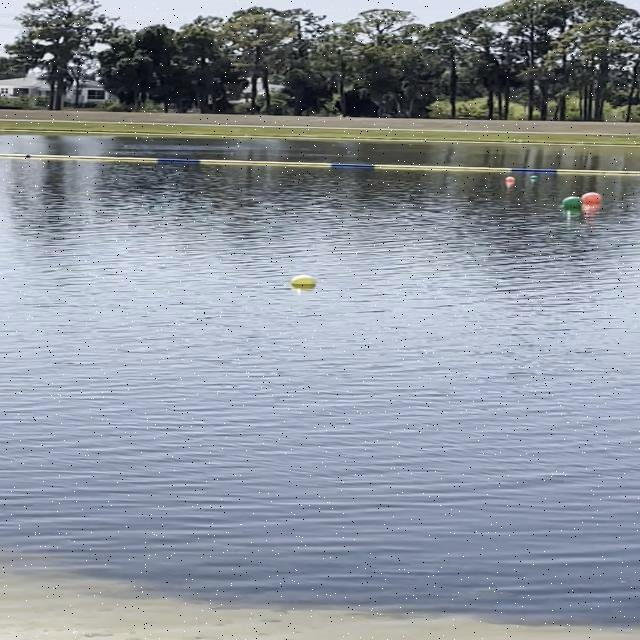buoy: (281, 269, 328, 294), (558, 193, 582, 214), (583, 190, 606, 208), (526, 170, 544, 188), (501, 172, 516, 188)
